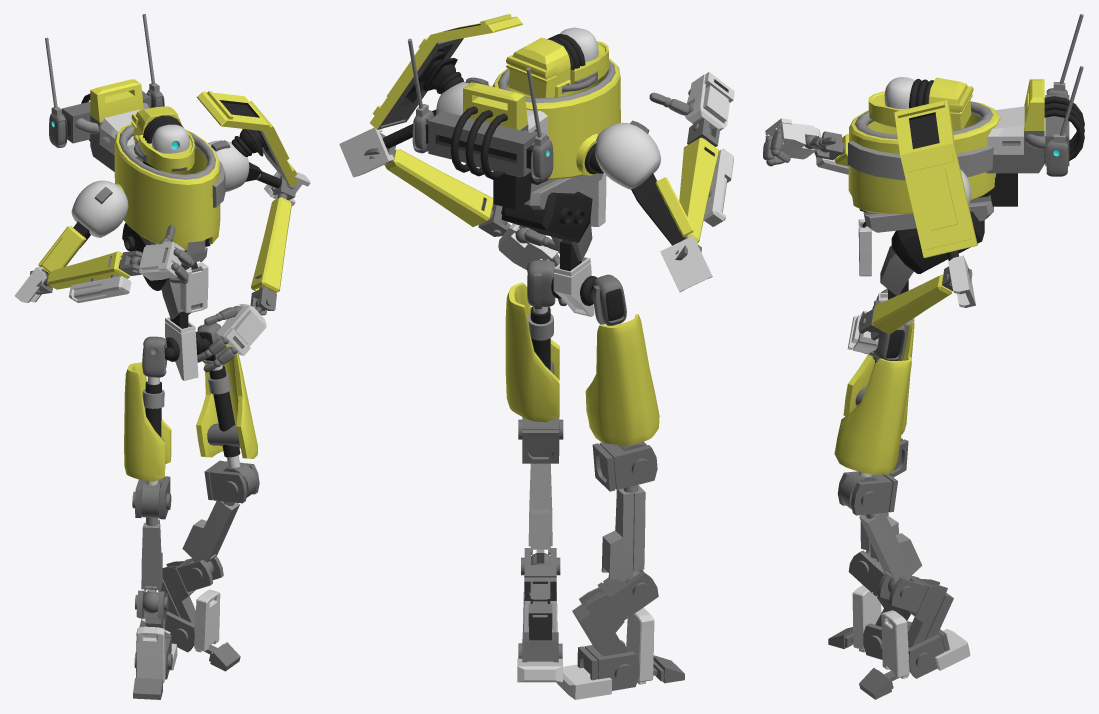
The model's file is RobotPoseFBX.fbx.
The picture shows the model from 3 angles, left to right: view 1: azimuth 30°, elevation 25°; view 2: azimuth 150°, elevation 25°; view 3: azimuth 270°, elevation 25°; orthographic projection. The views are drawn at different scales.
Visible parts, largest first — view 1: pasted__polySurface3, polySurface103, pasted__polySurface30, pasted__pCube10, polySurface105, pasted__pTorus14, pasted__polySurface19, pasted__pCube1, pasted__polySurface25, polySurface55, polySurface56, polySurface104 (+9 smaller); view 2: pasted__polySurface3, pasted__polySurface30, polySurface103, pasted__pCube10, polySurface104, pasted__pCube1, pasted__pTorus14, pasted__polySurface19, pasted__polySurface25, polySurface55, pasted__pCube11, polySurface76 (+9 smaller); view 3: pasted__polySurface3, polySurface103, pasted__pTorus14, polySurface105, pasted__pCube1, polySurface56, pasted__polySurface25, pasted__pCube11, polySurface104, polySurface80, pasted__polySurface30, pasted__polySurface42 (+6 smaller).
Boxes of the visible parts, x1,y1,x2,y2 form: pasted__polySurface3: [45, 14, 225, 264]; polySurface103: [196, 323, 259, 503]; pasted__polySurface30: [124, 336, 175, 519]; pasted__pCube10: [14, 180, 128, 302]; polySurface105: [160, 556, 223, 652]; pasted__pTorus14: [196, 91, 297, 186]; pasted__polySurface19: [30, 250, 142, 302]; pasted__pCube1: [131, 106, 196, 173]; pasted__polySurface25: [250, 176, 296, 315]; polySurface55: [141, 481, 162, 613]; polySurface56: [182, 462, 257, 574]; polySurface104: [135, 590, 168, 683]; pasted__polySurface3: [407, 38, 620, 209]; pasted__polySurface30: [585, 274, 659, 491]; polySurface103: [505, 260, 563, 463]; pasted__pCube10: [595, 120, 712, 292]; polySurface104: [572, 570, 658, 684]; pasted__pCube1: [506, 27, 608, 97]; pasted__pTorus14: [370, 14, 522, 129]; pasted__polySurface19: [671, 118, 733, 260]; pasted__polySurface25: [364, 133, 508, 236]; polySurface55: [601, 441, 646, 582]; pasted__pCube11: [501, 191, 592, 261]; polySurface76: [556, 640, 639, 699]; pasted__polySurface3: [847, 14, 1084, 232]; polySurface103: [834, 324, 911, 515]; pasted__pTorus14: [894, 99, 977, 257]; polySurface105: [877, 573, 953, 678]; pasted__pCube1: [868, 77, 973, 130]; polySurface56: [840, 471, 922, 593]; pasted__polySurface25: [858, 266, 972, 340]; pasted__pCube11: [880, 211, 984, 295]; polySurface104: [848, 550, 910, 652]; polySurface80: [908, 629, 970, 678]; pasted__polySurface30: [843, 288, 914, 477]; pasted__polySurface42: [765, 118, 828, 159].
Bounding box in the file's own units: 6.37 × 11.77 × 5.42.
